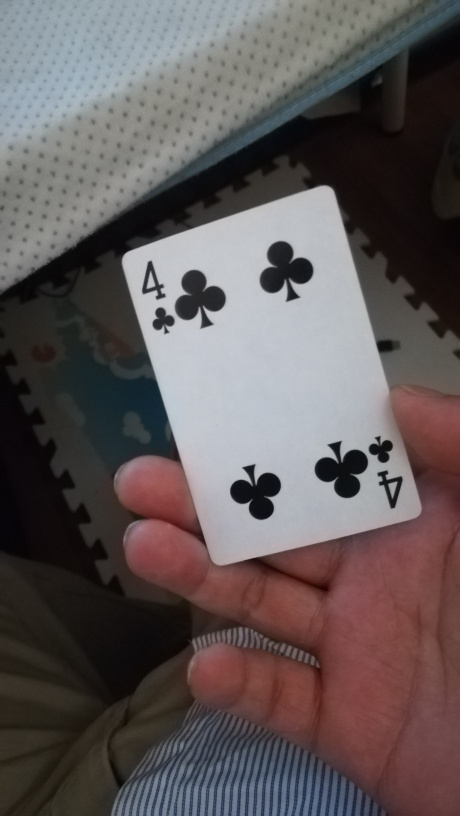mh 4: (121, 181, 425, 568)
